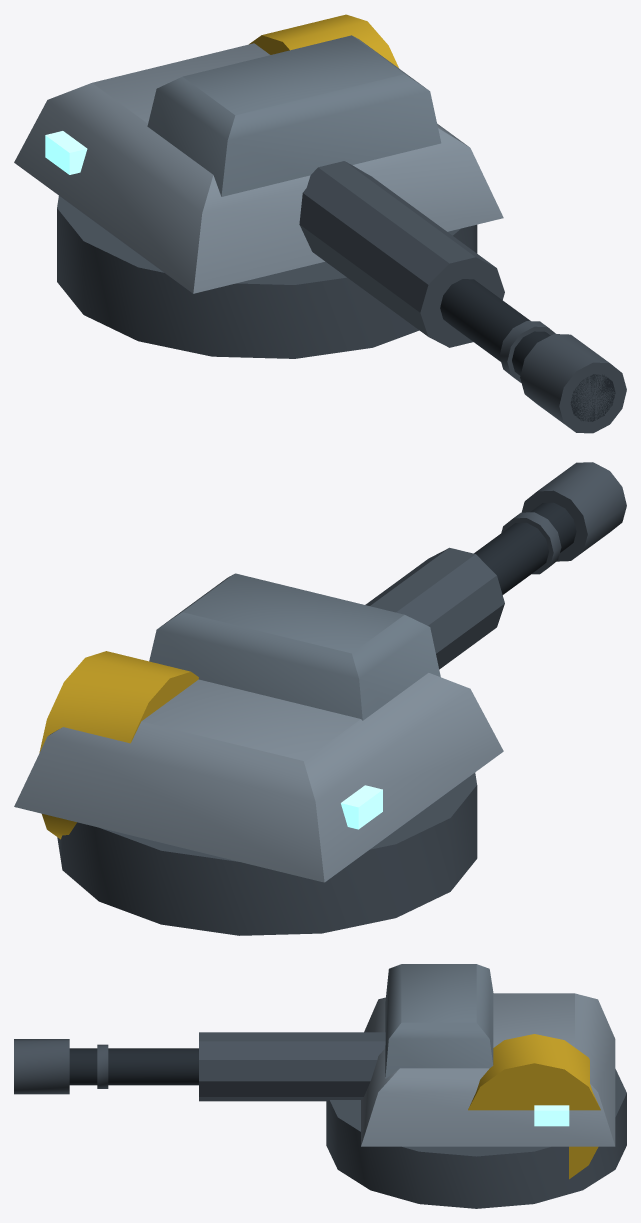
File: arena_weapon_autocannon.glb
The picture shows the model from 3 angles, top to bottom: view 1: azimuth 30°, elevation 25°; view 2: azimuth 150°, elevation 25°; view 3: azimuth 270°, elevation 25°; orthographic projection. The views are drawn at different scales.
Parts seen in each view (by area): view 1: yaw_barbette, gun_shield, base, cooler, barrel_0_brake, barrel_0_tube, ammo_drum, yaw_team; view 2: yaw_barbette, base, gun_shield, ammo_drum, cooler, barrel_0_brake, barrel_0_tube, yaw_team; view 3: yaw_barbette, base, cooler, gun_shield, ammo_drum, barrel_0_tube, barrel_0_brake, yaw_team.
Boxes of the visible parts, x1=… form: yaw_barbette: x1=14, y1=43, x2=503, y2=293; gun_shield: x1=147, y1=35, x2=441, y2=196; base: x1=57, y1=196, x2=477, y2=358; cooler: x1=299, y1=161, x2=504, y2=347; barrel_0_brake: x1=499, y1=321, x2=626, y2=433; barrel_0_tube: x1=440, y1=279, x2=615, y2=421; ammo_drum: x1=249, y1=14, x2=398, y2=67; yaw_team: x1=45, y1=131, x2=87, y2=174; yaw_barbette: x1=14, y1=673, x2=503, y2=882; base: x1=57, y1=772, x2=477, y2=935; gun_shield: x1=149, y1=573, x2=440, y2=720; ammo_drum: x1=39, y1=651, x2=198, y2=839; cooler: x1=365, y1=547, x2=504, y2=669; barrel_0_brake: x1=501, y1=462, x2=626, y2=574; barrel_0_tube: x1=474, y1=502, x2=576, y2=594; yaw_team: x1=341, y1=785, x2=382, y2=829; yaw_barbette: x1=361, y1=993, x2=615, y2=1146; base: x1=326, y1=1069, x2=626, y2=1208; cooler: x1=199, y1=1032, x2=385, y2=1101; gun_shield: x1=385, y1=964, x2=493, y2=1078; ammo_drum: x1=468, y1=1034, x2=600, y2=1179; barrel_0_tube: x1=69, y1=1048, x2=198, y2=1085; barrel_0_brake: x1=14, y1=1039, x2=108, y2=1094; yaw_team: x1=534, y1=1105, x2=569, y2=1126.
Bounding box in the file's own units: 5.2 × 2.9 × 10.6.
